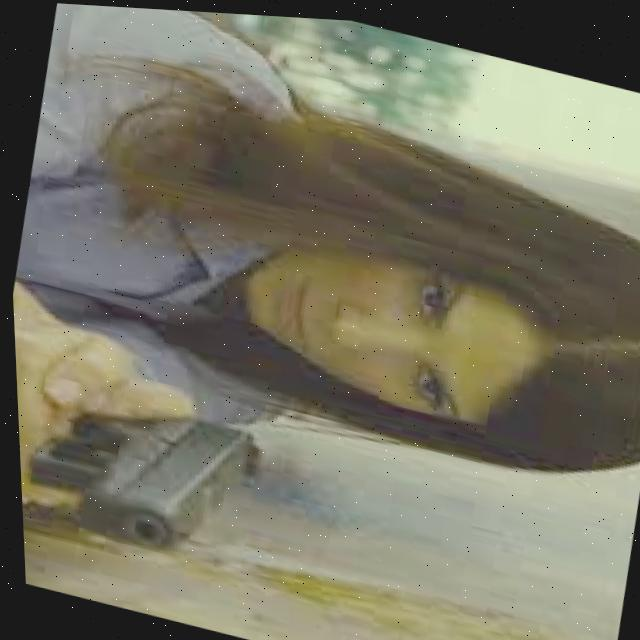pistol: (13, 374, 272, 578)
